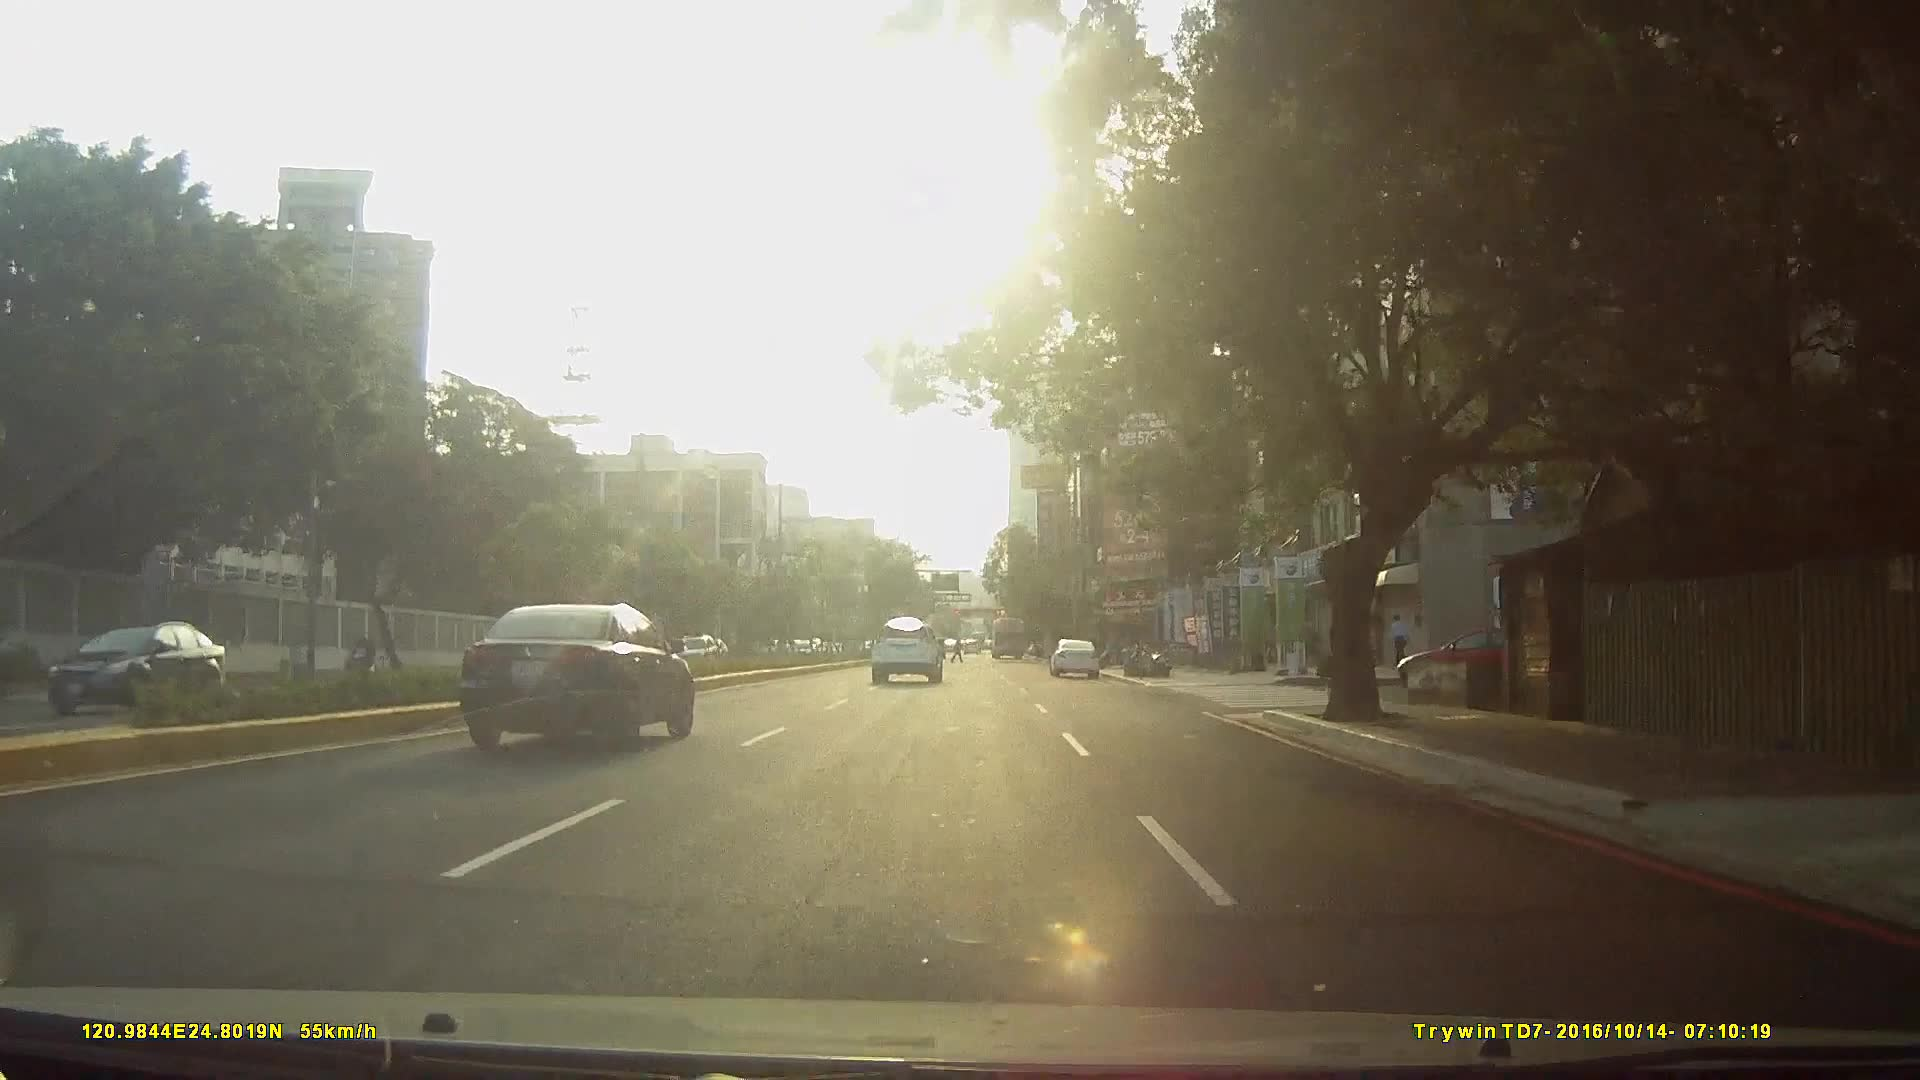pedestrian: (1389, 614, 1410, 669)
rider: (341, 634, 383, 689)
vehicle: (460, 598, 697, 751), (44, 608, 234, 727), (868, 617, 945, 686), (1048, 634, 1101, 676), (986, 613, 1027, 658)
